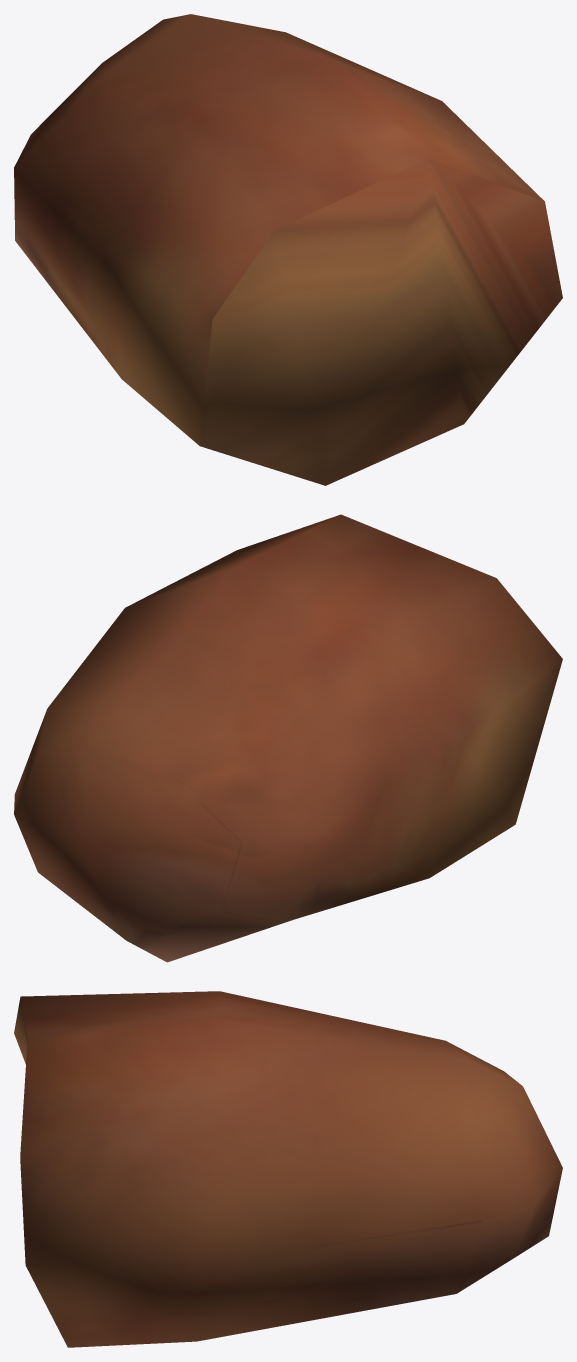
The model's file is index_03_l.dae.
3 renders of one model, top to bottom at view 1: azimuth 30°, elevation 25°; view 2: azimuth 150°, elevation 25°; view 3: azimuth 270°, elevation 25°, orthographic. The views are drawn at different scales.
Visible parts, largest first — view 1: index_3_l; view 2: index_3_l; view 3: index_3_l.
Part boxes in pixels (x1=…): index_3_l: x1=14, y1=14, x2=562, y2=485; index_3_l: x1=14, y1=514, x2=562, y2=962; index_3_l: x1=14, y1=991, x2=562, y2=1347.
Bounding box in the file's own units: 0.0202 × 0.0277 × 0.0182.
